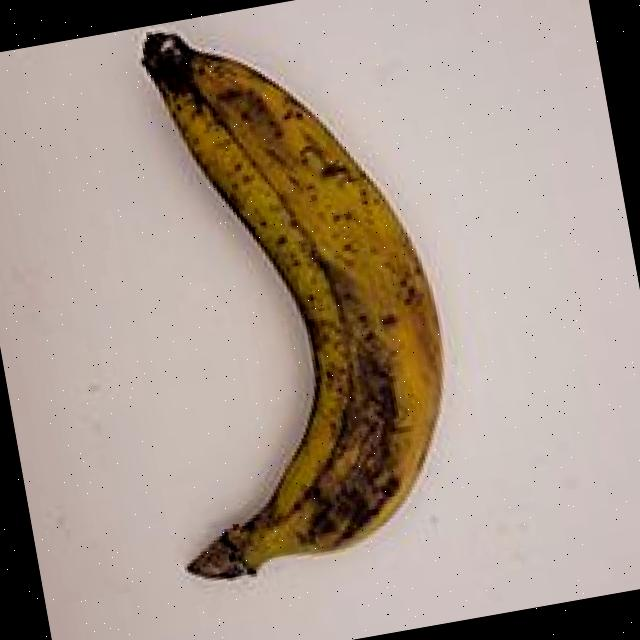Overripe: (60, 0, 501, 617)
